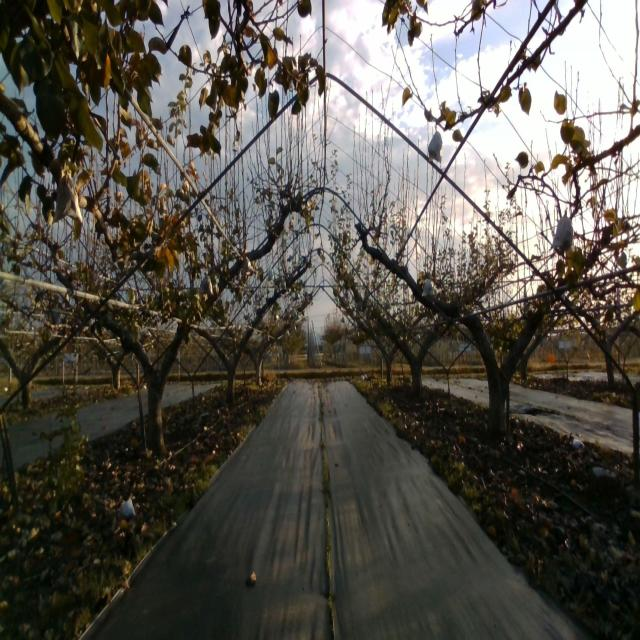pearbags: (52, 170, 83, 224), (552, 209, 573, 256), (428, 125, 442, 163), (198, 274, 214, 297), (242, 256, 254, 277), (422, 278, 434, 297)
